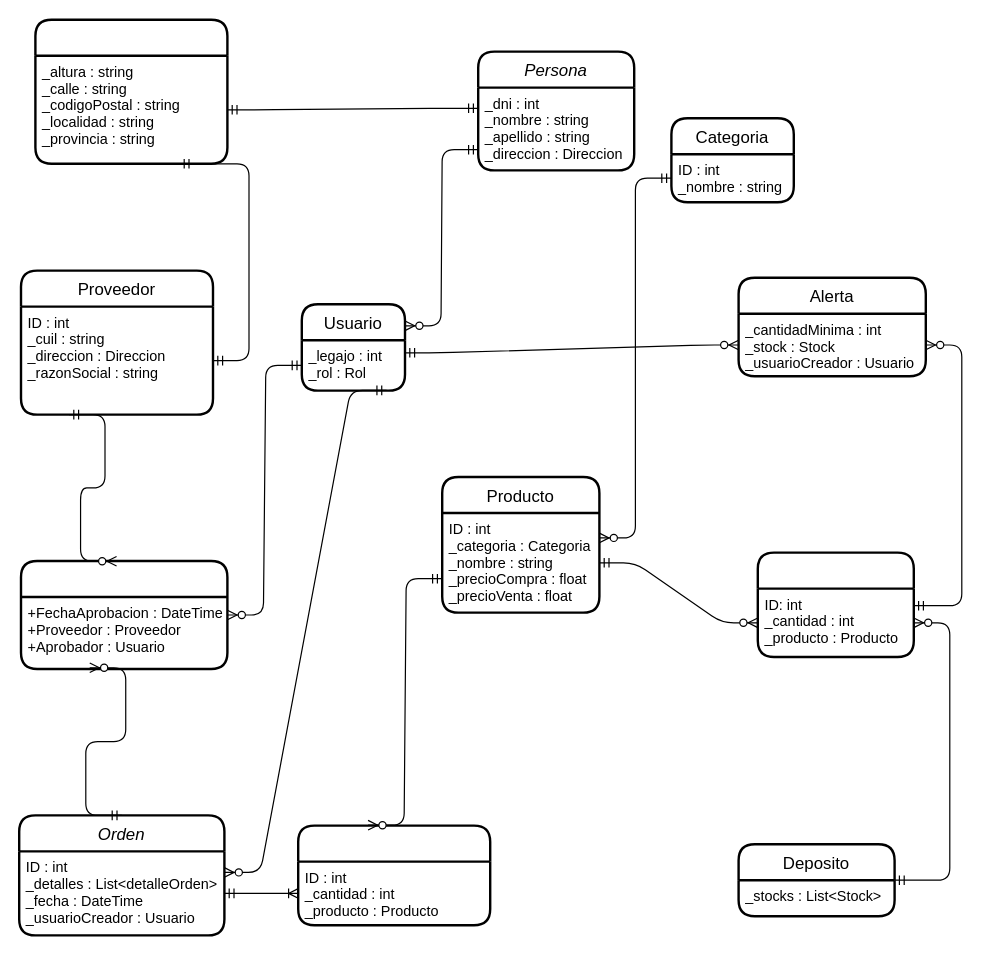
Some shapes in this 982 by 955 pixel diagram are drawn without their labels. The shapes that lost their labels are listed below. From the top down, each one's box as (x1, y1, x2, y2) in pixels, then its label:
(34, 18, 228, 164): Direccion
(19, 559, 228, 670): OrdenCompra
(756, 551, 914, 658): Stock
(296, 824, 491, 926): DetalleOrden
